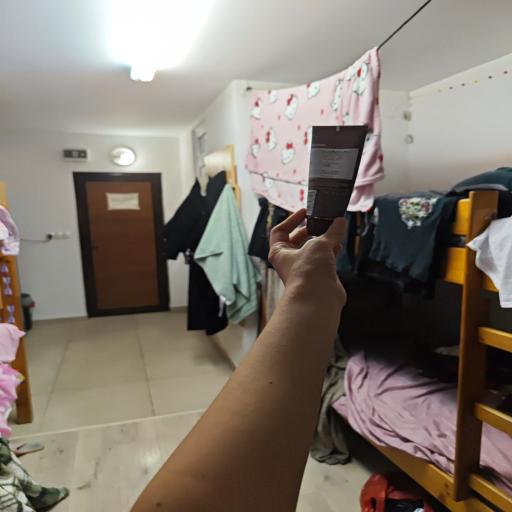Crema Maini: (304, 124, 366, 241)
